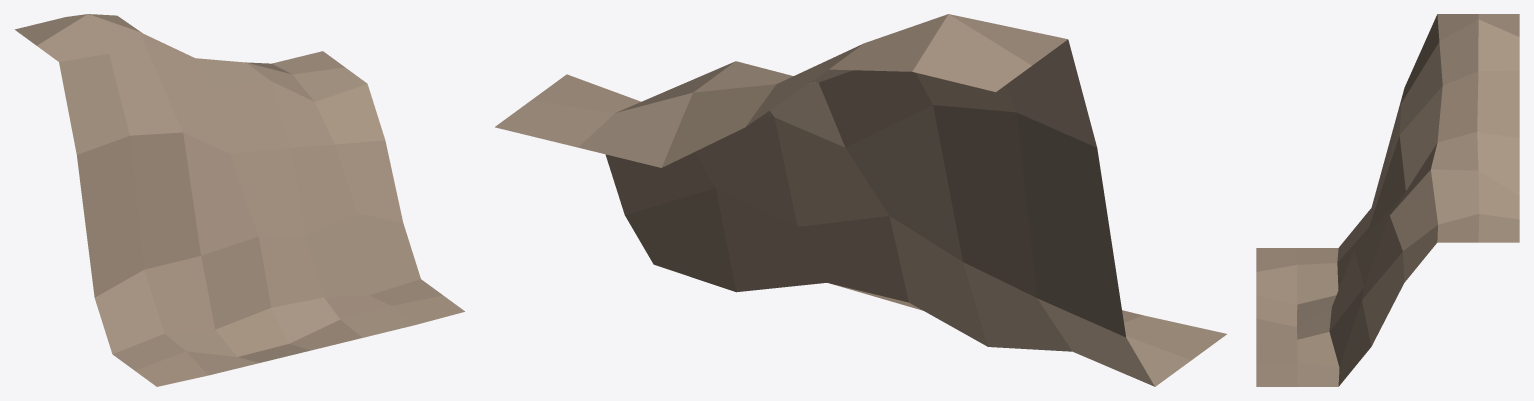
Rendered from Groborchik_RiverBank_Trans_Up5-3.fbx.
3 views of the same model, side by side, from view 1: azimuth 30°, elevation 25°; view 2: azimuth 150°, elevation 25°; view 3: azimuth 270°, elevation 25° (orthographic). The views are drawn at different scales.
Parts seen in each view (by area): view 1: Trans_Up5-3; view 2: Trans_Up5-3; view 3: Trans_Up5-3.
Boxes of the visible parts, <box> form: Trans_Up5-3: <box>14,14,464,386</box>; Trans_Up5-3: <box>495,14,1226,386</box>; Trans_Up5-3: <box>1256,14,1519,386</box>.
Size of the model in its own units: 1000 by 879 by 800.
